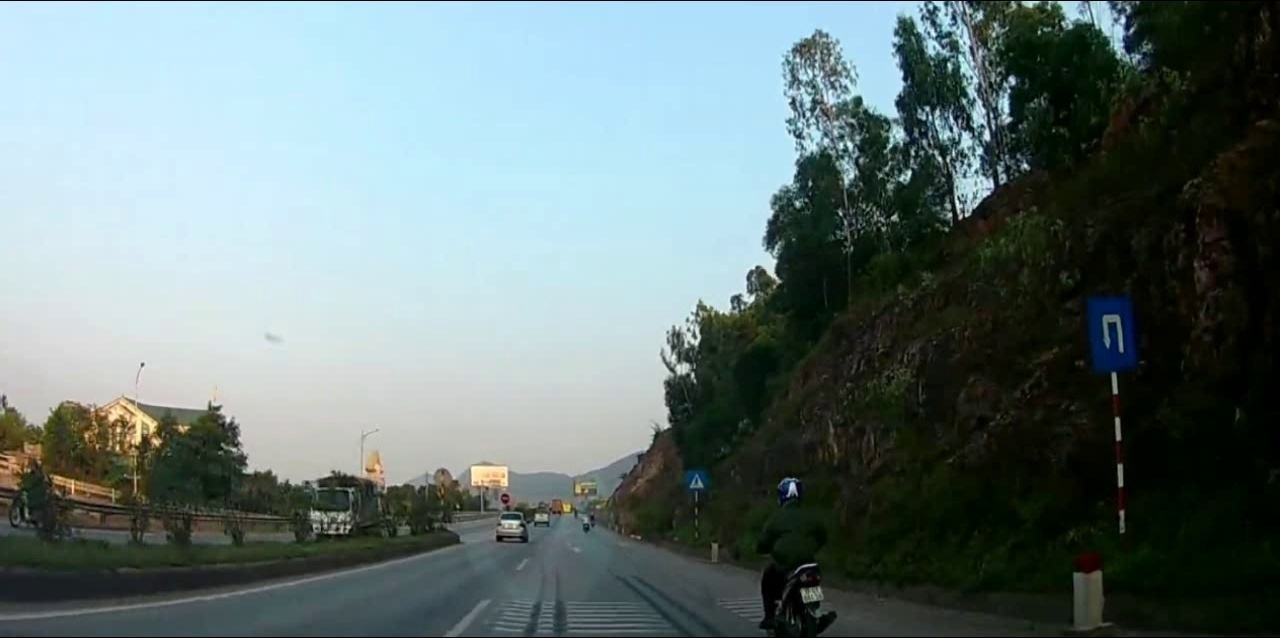Bien khac: (1090, 295, 1138, 371)
Cam di nguoc chieu: (502, 493, 509, 505)
Nguoi di bo: (684, 467, 708, 493)
